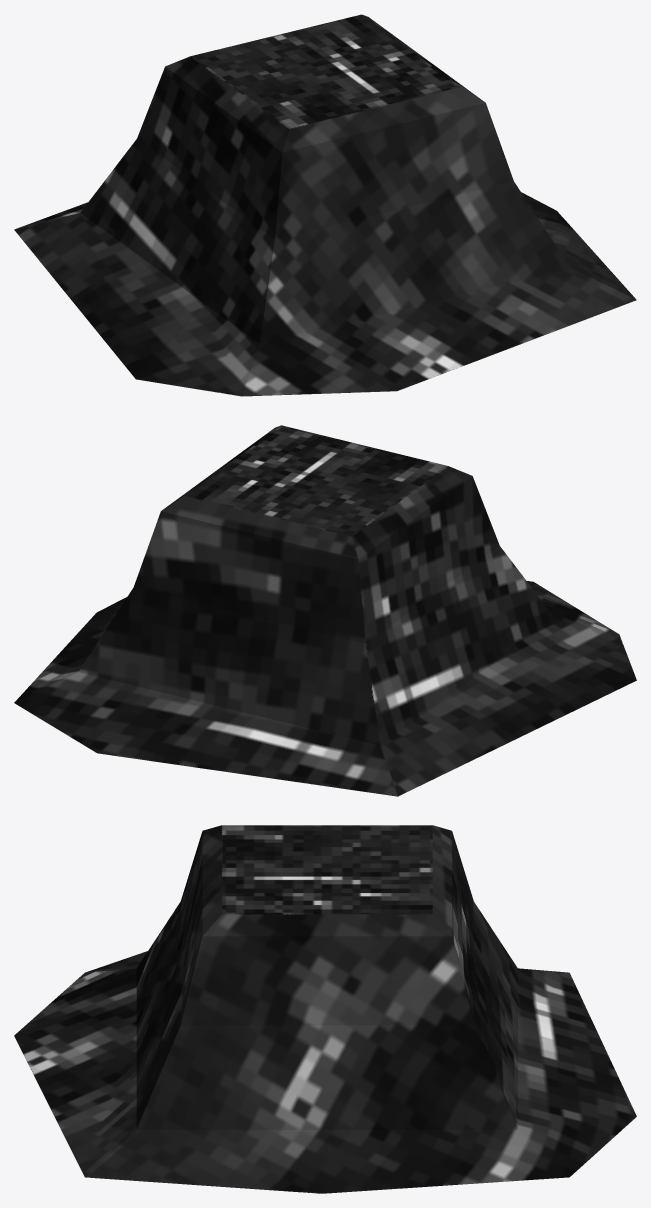
Rendered from thing_under_tarp.fbx.
3 views of the same model, one above another, from view 1: azimuth 30°, elevation 25°; view 2: azimuth 150°, elevation 25°; view 3: azimuth 270°, elevation 25° (orthographic). The views are drawn at different scales.
Parts seen in each view (by area): view 1: vec pod plachtou; view 2: vec pod plachtou; view 3: vec pod plachtou.
Boxes of the visible parts, x1=… form: vec pod plachtou: x1=14, y1=14, x2=636, y2=396; vec pod plachtou: x1=14, y1=425, x2=636, y2=796; vec pod plachtou: x1=14, y1=825, x2=636, y2=1193.
Bounding box in the file's own units: 226 × 85.41 × 235.
